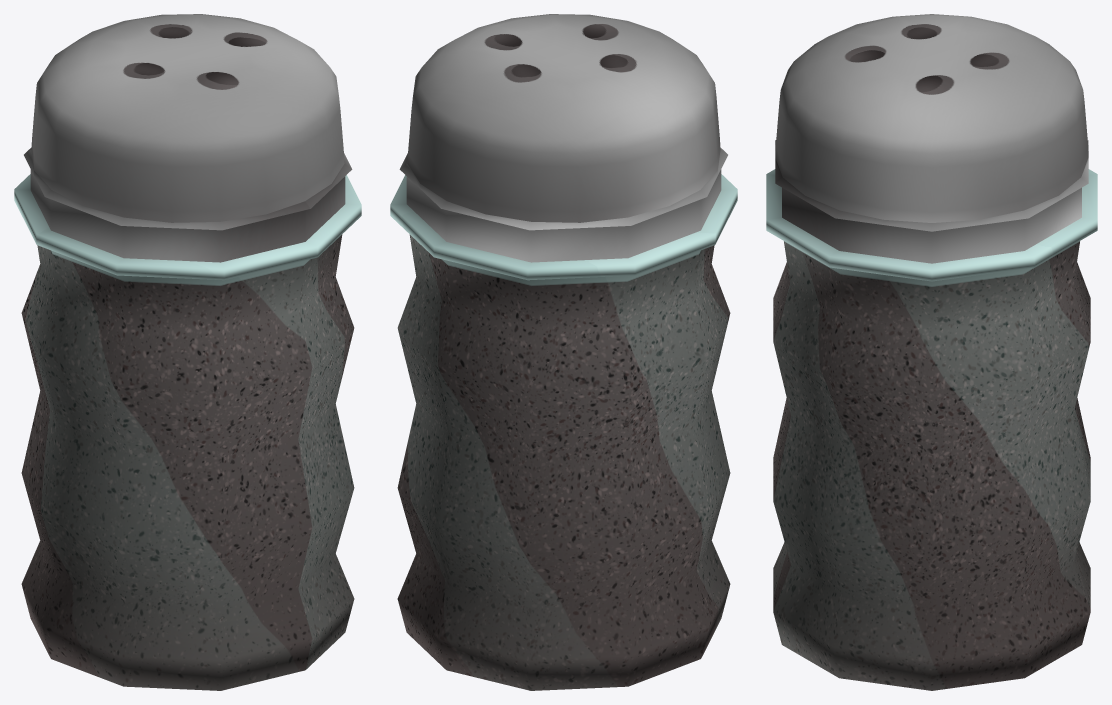
File: Pepper.fbx
3 views of the same model, side by side, from view 1: azimuth 30°, elevation 25°; view 2: azimuth 150°, elevation 25°; view 3: azimuth 270°, elevation 25° (orthographic).
Visible parts, largest first — view 1: Pepper; view 2: Pepper; view 3: Pepper.
Part boxes in pixels (x1=…): Pepper: x1=14, y1=14, x2=361, y2=690; Pepper: x1=390, y1=14, x2=737, y2=690; Pepper: x1=766, y1=14, x2=1097, y2=690.
Bounding box in the file's own units: 18.3 × 32.97 × 17.41.
1 material, 1 textured.
